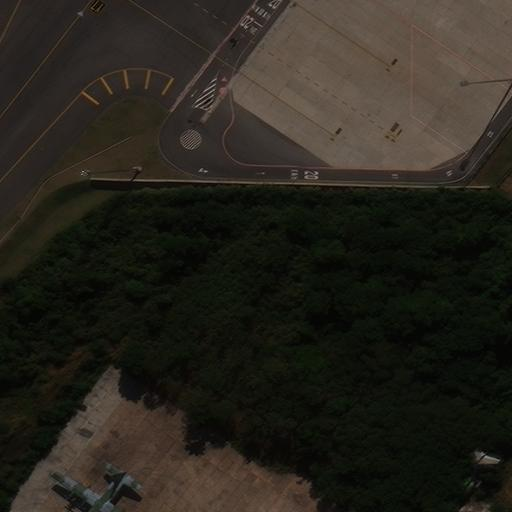Military Transport: (50, 473, 136, 512)
